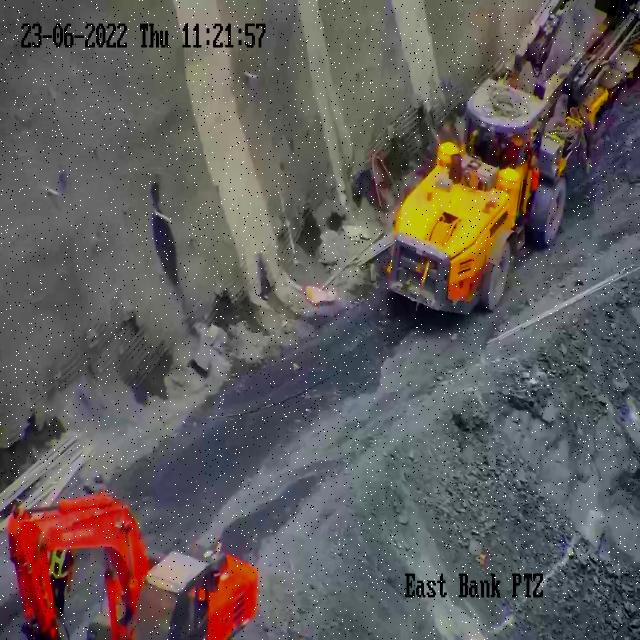Mask: (52, 546, 70, 578)
